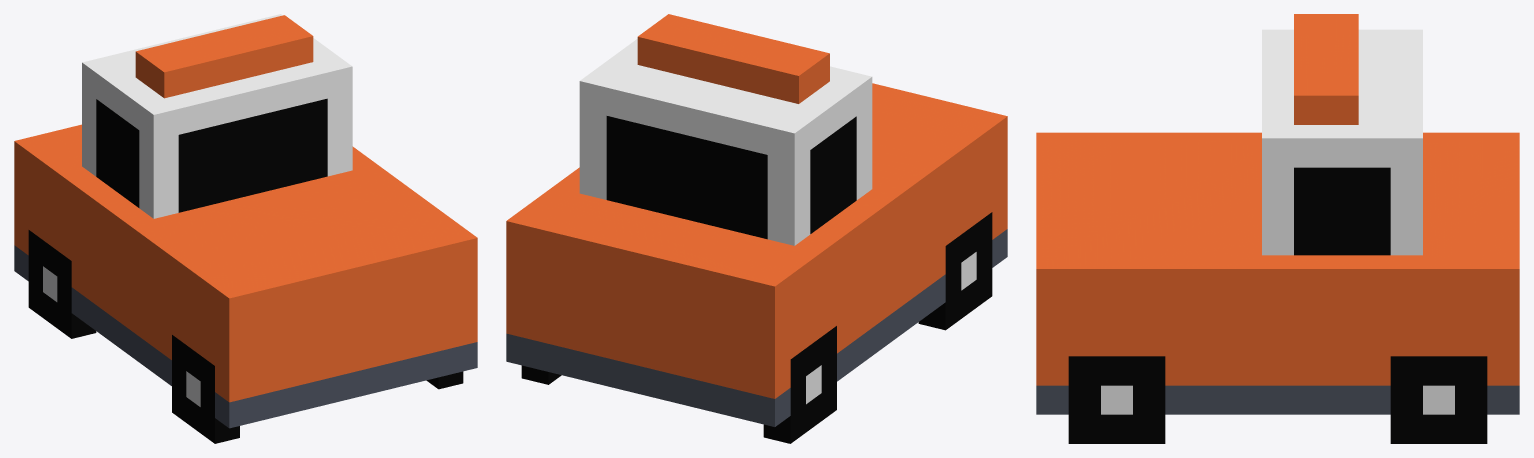
Rendered from cartwo.obj.
3 views of the same model, side by side, from view 1: azimuth 30°, elevation 25°; view 2: azimuth 150°, elevation 25°; view 3: azimuth 270°, elevation 25° (orthographic). The views are drawn at different scales.
Size of the model in its own units: 10 by 11 by 15.
